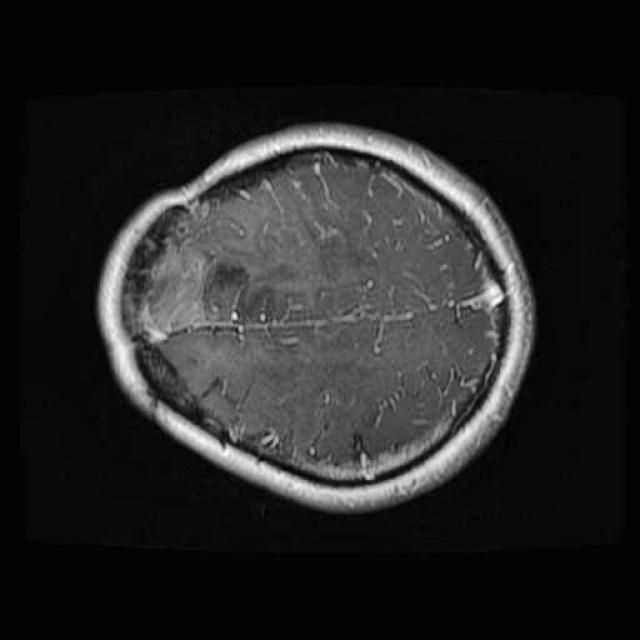Non-Tumor: (136, 224, 261, 354)
